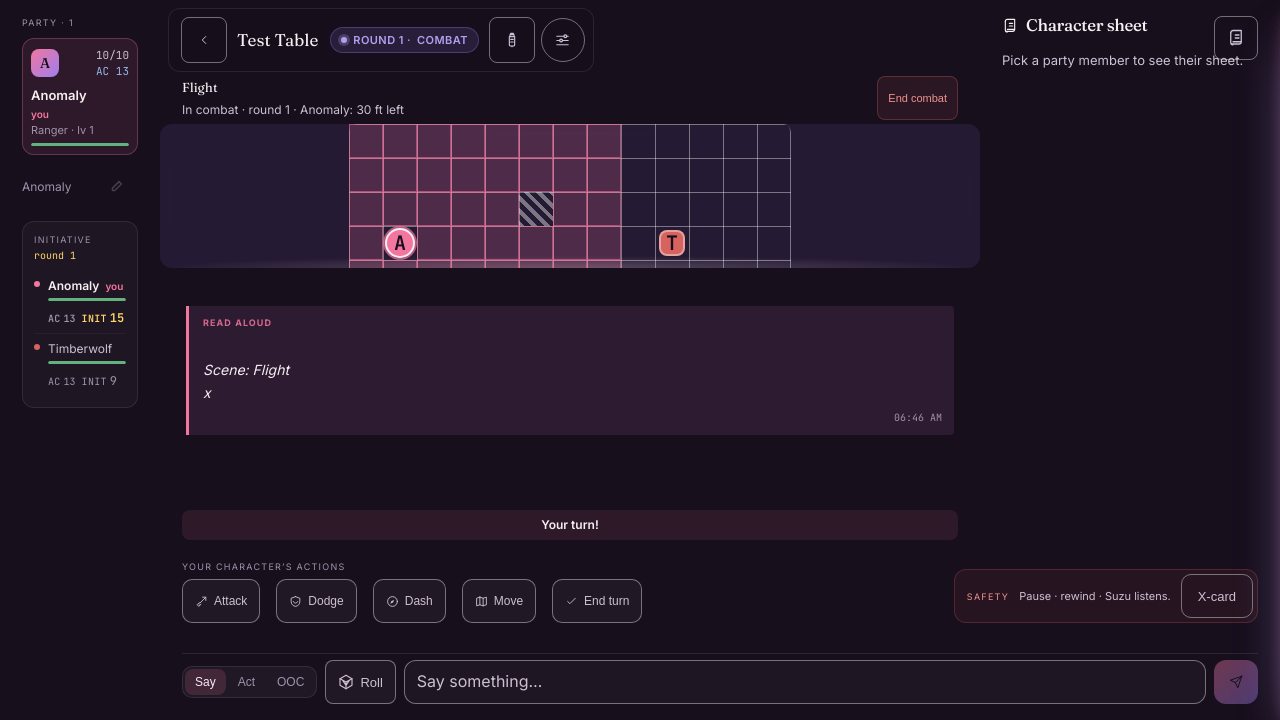
Test case: refusals: the copy in the action bar's alert, never re-sent, and where focus and Move end up › a network failure (no reason): the generic copy, still armed, nothing re-sent
This screenshot has width=1280, height=720.
Expected: the text "Test Table" is shown, [237,27,318,53]
Expected: the cell named "Row 1, column 1. Empty." is shown, [349,124,383,158]
Click the button "Move" at (499, 601), box [462,579,536,623]
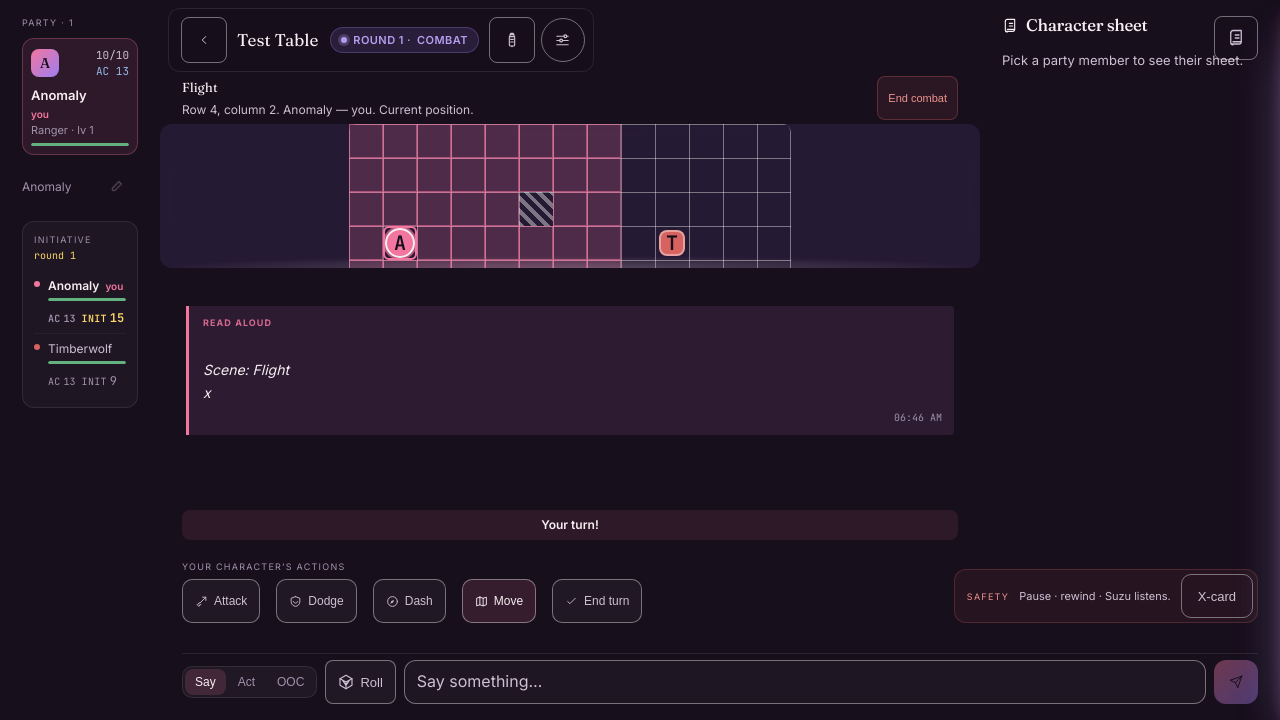
Press ArrowRight in the cell "A", box [387,230,413,256]
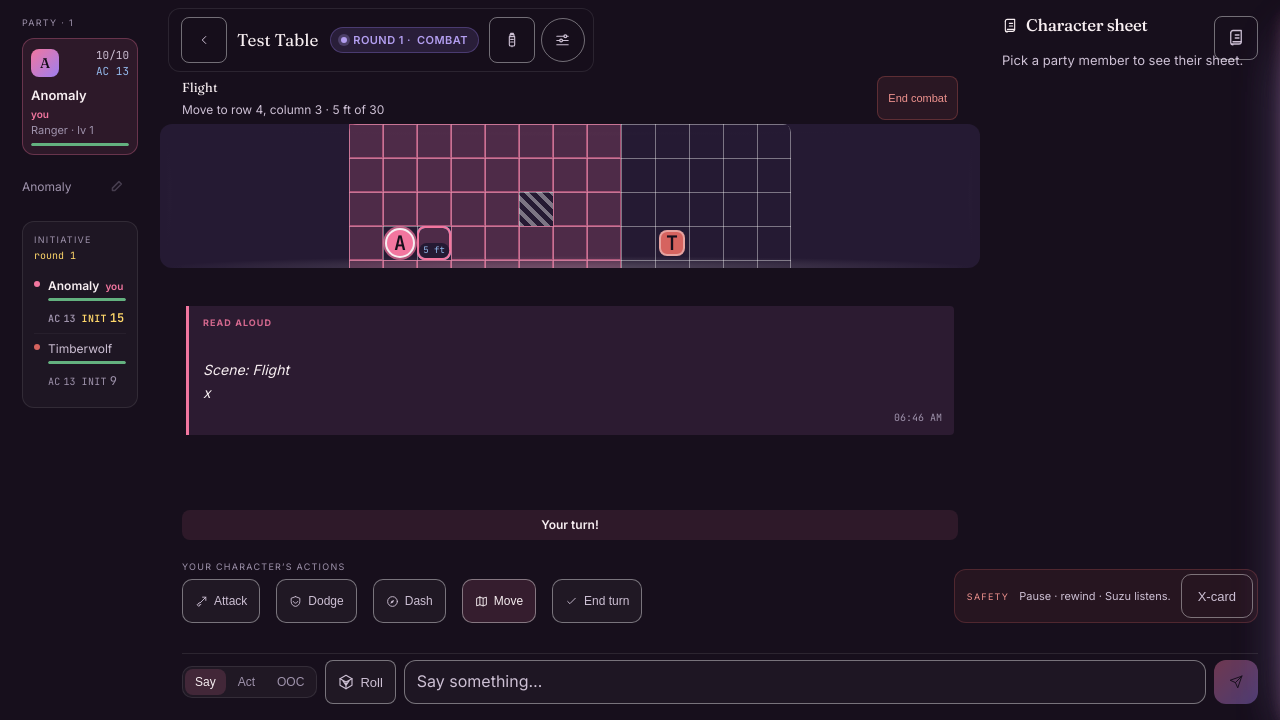
Press Enter in the cell "5 ft", box [417,226,451,260]
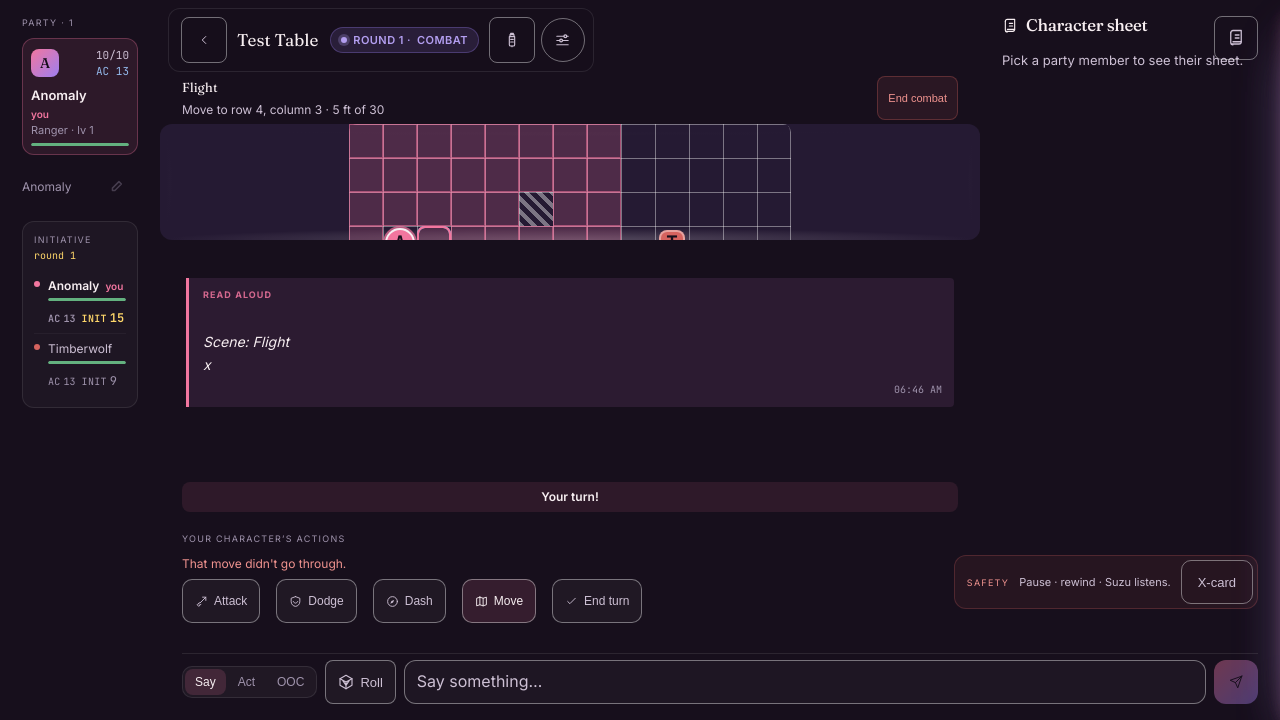
Now the message "That move didn't go through." is shown, box [182,556,346,571]
